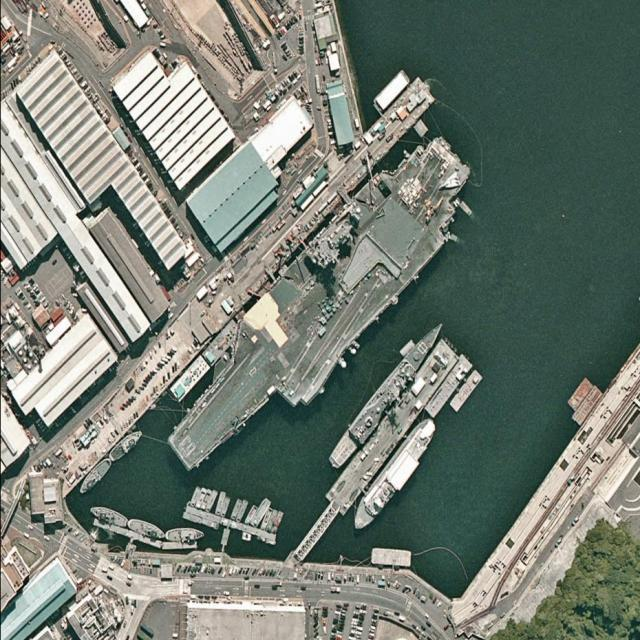Aircraft Carrier: (139, 122, 505, 499)
Dock: (319, 339, 467, 517)
Frigate: (321, 318, 451, 472)
Other Ship: (249, 497, 273, 529), (260, 506, 274, 530), (205, 489, 219, 513), (271, 511, 285, 534), (230, 498, 244, 521), (194, 487, 208, 509), (244, 504, 259, 524), (200, 488, 213, 511), (266, 509, 278, 533), (236, 500, 248, 523), (215, 491, 226, 515), (189, 486, 202, 506), (220, 496, 231, 518)
Other Warship: (76, 454, 116, 497), (106, 426, 146, 465), (125, 515, 168, 542), (88, 503, 131, 528), (165, 526, 204, 542)
Yacht: (343, 413, 445, 535)
